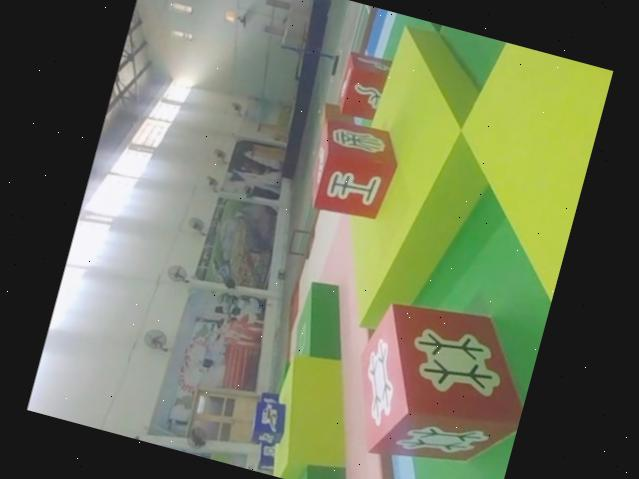R2 Fake: (295, 106, 408, 228)
R2 Real: (331, 279, 544, 479), (332, 48, 395, 124)
